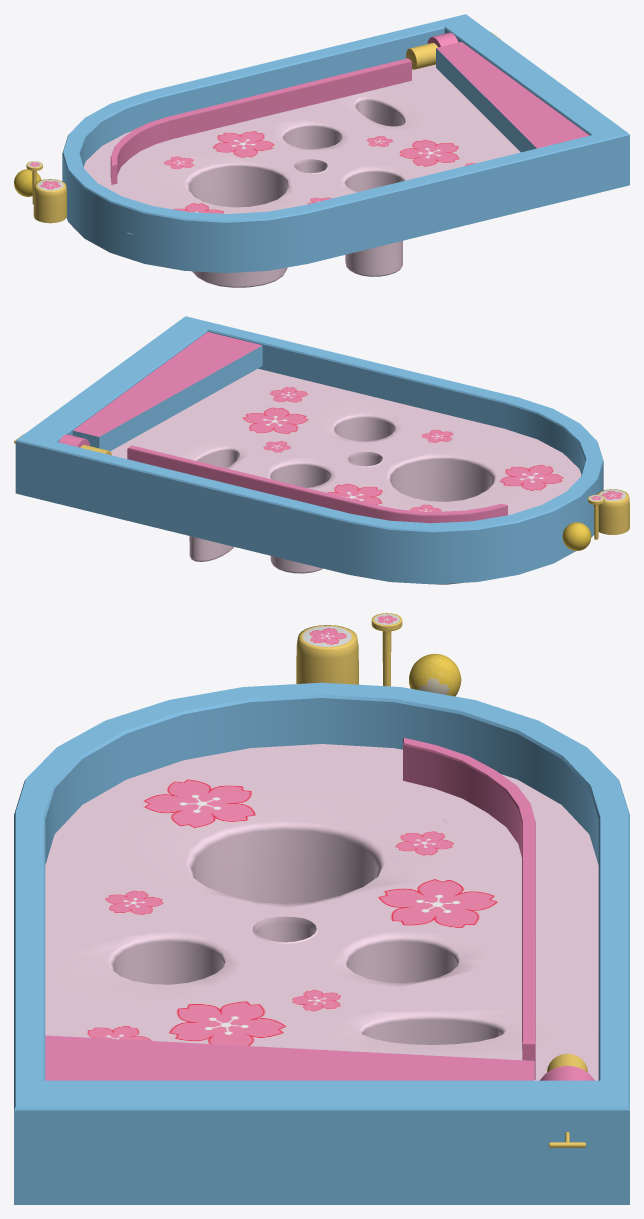
The model's file is pinball_all.fbx.
3 views of the same model, one above another, from view 1: azimuth 30°, elevation 25°; view 2: azimuth 150°, elevation 25°; view 3: azimuth 270°, elevation 25° (orthographic). The views are drawn at different scales.
Parts seen in each view (by area): view 1: board_03, entyu, pinball_HASSYA, ball; view 2: board_03, entyu, ball; view 3: board_03, entyu, ball, pin.
Part boxes in pixels (x1,y1,x2,y2): board_03: (62,14,629,287); entyu: (33,179,66,223); pinball_HASSYA: (406,32,500,69); ball: (14,169,41,196); board_03: (15,316,603,584); entyu: (597,489,629,534); ball: (562,522,591,550); board_03: (14,682,629,1204); entyu: (296,625,358,684); ball: (409,653,461,696); pin: (371,613,402,686).
Bounding box in the file's own units: 15.51 × 3.6 × 8.4.
